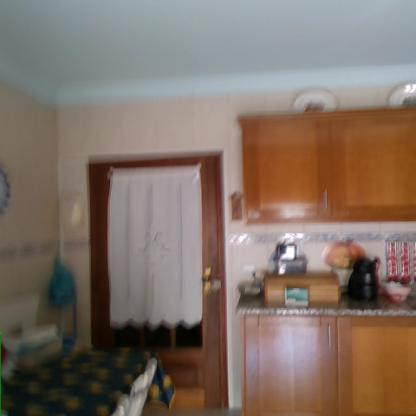closed: (70, 145, 248, 416)
